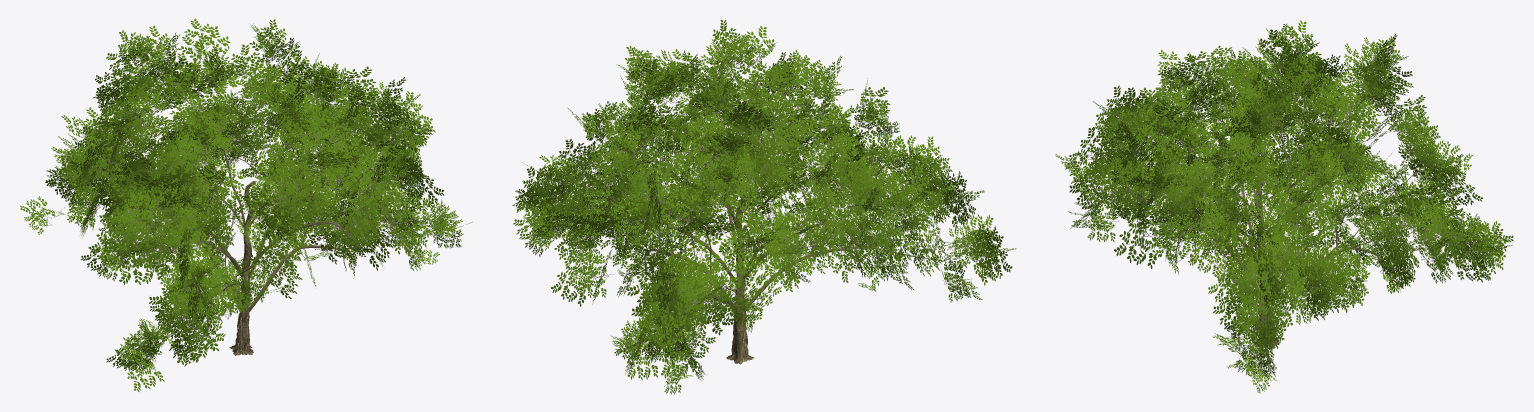
The model's file is baum_buche_1_lod1.glb.
3 views of the same model, side by side, from view 1: azimuth 30°, elevation 25°; view 2: azimuth 150°, elevation 25°; view 3: azimuth 270°, elevation 25° (orthographic).
Parts seen in each view (by area): view 1: Krone, Stamm; view 2: Krone, Stamm; view 3: Krone, Stamm.
Part boxes in pixels (x1,y1,x2,y2): Krone: [20, 18, 472, 391]; Stamm: [61, 66, 431, 356]; Krone: [512, 19, 1016, 394]; Stamm: [555, 86, 956, 369]; Krone: [1055, 20, 1513, 393]; Stamm: [1097, 79, 1469, 358].
Bounding box in the file's own units: 20.93 × 14.1 × 19.5.
Materials: 2 (2 with a texture image).
